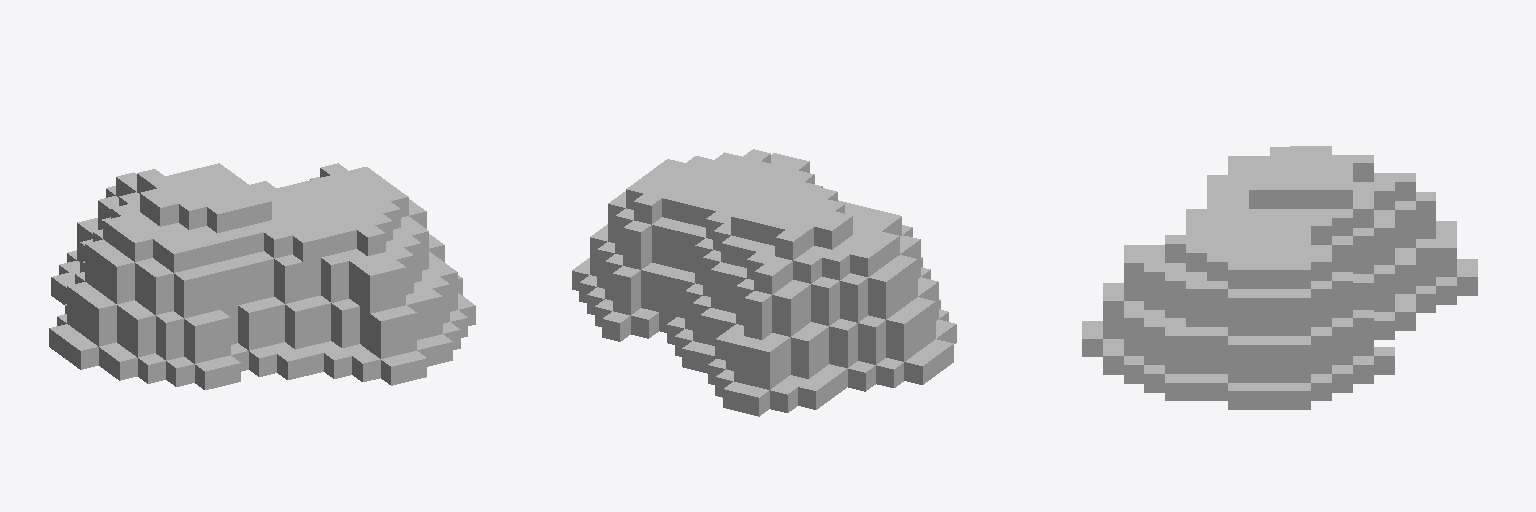
The model's file is ore veign iron.obj.
The picture shows the model from 3 angles: view 1: azimuth 30°, elevation 25°; view 2: azimuth 150°, elevation 25°; view 3: azimuth 270°, elevation 25°; orthographic projection.
Parts seen in each view (by area): view 1: ore veign iron; view 2: ore veign iron; view 3: ore veign iron.
Part boxes in pixels (left/top/right/bottom): ore veign iron: left=49, top=163, right=475, bottom=389; ore veign iron: left=572, top=149, right=956, bottom=416; ore veign iron: left=1082, top=146, right=1477, bottom=409.
Size of the model in its own units: 20 by 7 by 19.